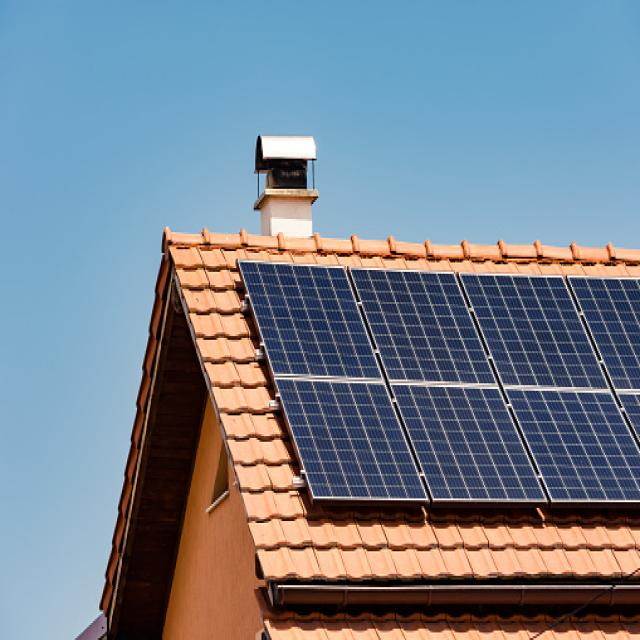clean-solar-panel: (278, 379, 426, 499)
